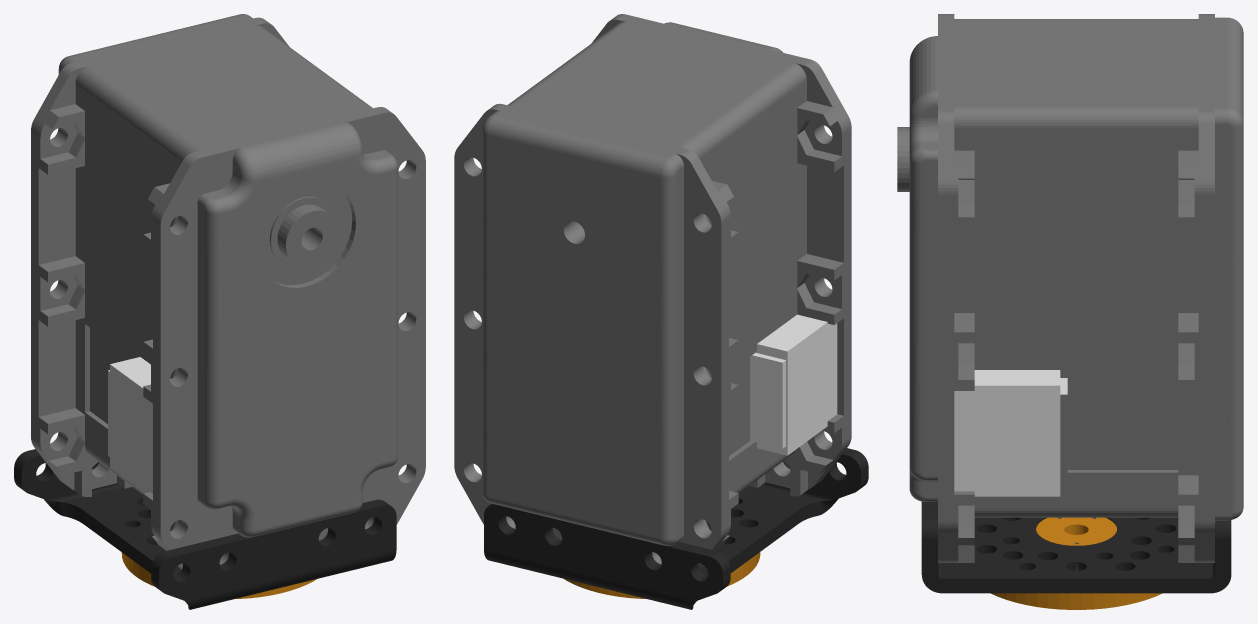
The model's file is tilt_actuator.dae.
3 renders of one model, left to right at view 1: azimuth 30°, elevation 25°; view 2: azimuth 150°, elevation 25°; view 3: azimuth 270°, elevation 25°, orthographic. The views are drawn at different scales.
Visible parts, largest first — view 1: tilt_actuator; view 2: tilt_actuator; view 3: tilt_actuator.
Boxes of the visible parts, x1,y1,x2,y2 form: tilt_actuator: (14, 14, 425, 609); tilt_actuator: (454, 14, 868, 609); tilt_actuator: (897, 14, 1243, 609).
Size of the model in its own units: 0.0416 by 0.0425 by 0.068.
